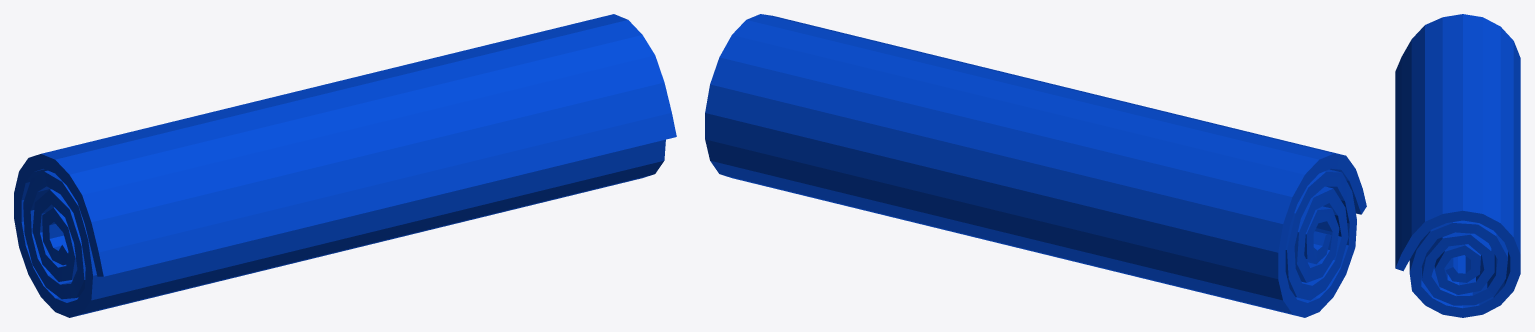
Rendered from blanket.fbx.
3 renders of one model, left to right at view 1: azimuth 30°, elevation 25°; view 2: azimuth 150°, elevation 25°; view 3: azimuth 270°, elevation 25°, orthographic. The views are drawn at different scales.
Parts seen in each view (by area): view 1: Blanket; view 2: Blanket; view 3: Blanket.
Part boxes in pixels (x1,y1,x2,y2): Blanket: (14, 14, 676, 317); Blanket: (705, 14, 1366, 317); Blanket: (1395, 14, 1520, 317).
Size of the model in its own units: 130 by 33 by 35.
